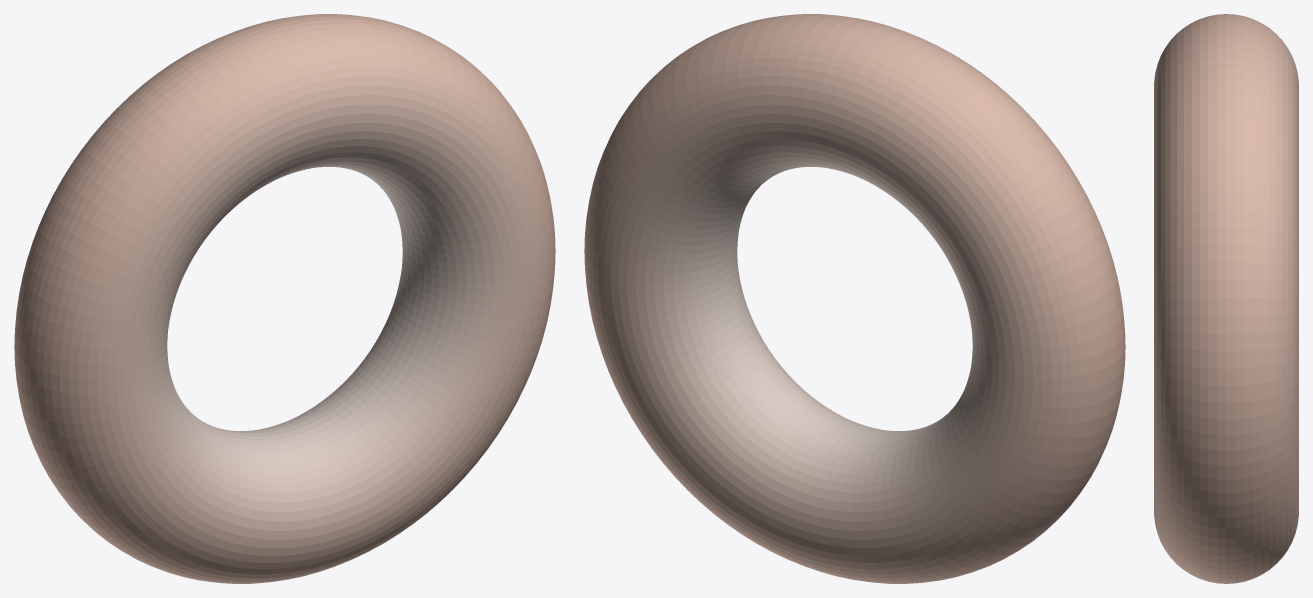
3 views of the same model, side by side, from view 1: azimuth 30°, elevation 25°; view 2: azimuth 150°, elevation 25°; view 3: azimuth 270°, elevation 25° (orthographic). The views are drawn at different scales.
Parts seen in each view (by area): view 1: world; view 2: world; view 3: world.
Boxes of the visible parts, x1=… form: world: x1=14, y1=14, x2=555, y2=583; world: x1=584, y1=14, x2=1125, y2=583; world: x1=1154, y1=14, x2=1298, y2=583.
Bounding box in the file's own units: 25.33 × 25.33 × 6.43.
